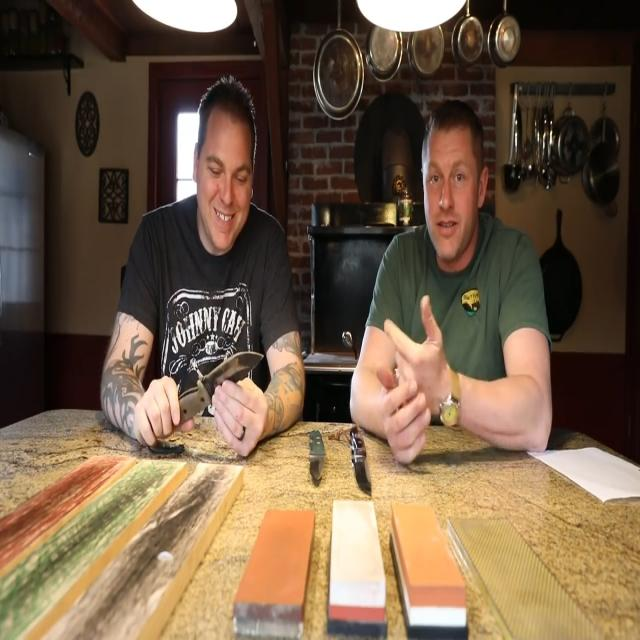knife: (174, 349, 266, 427), (349, 422, 375, 500), (308, 430, 329, 492)
